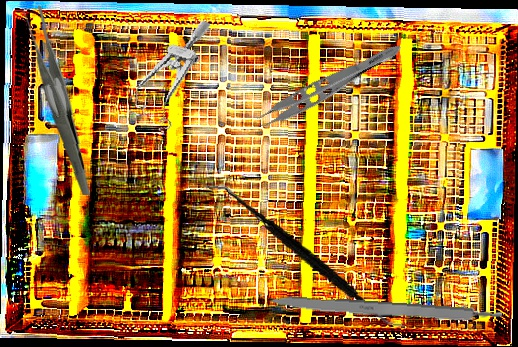Dressing Forceps: (15, 5, 98, 196)
Scalpel Handle: (267, 293, 503, 327)
Spatula Surgical: (192, 183, 419, 332)
Speculum: (124, 7, 212, 139)
Tissue Forceps: (243, 29, 405, 140)
